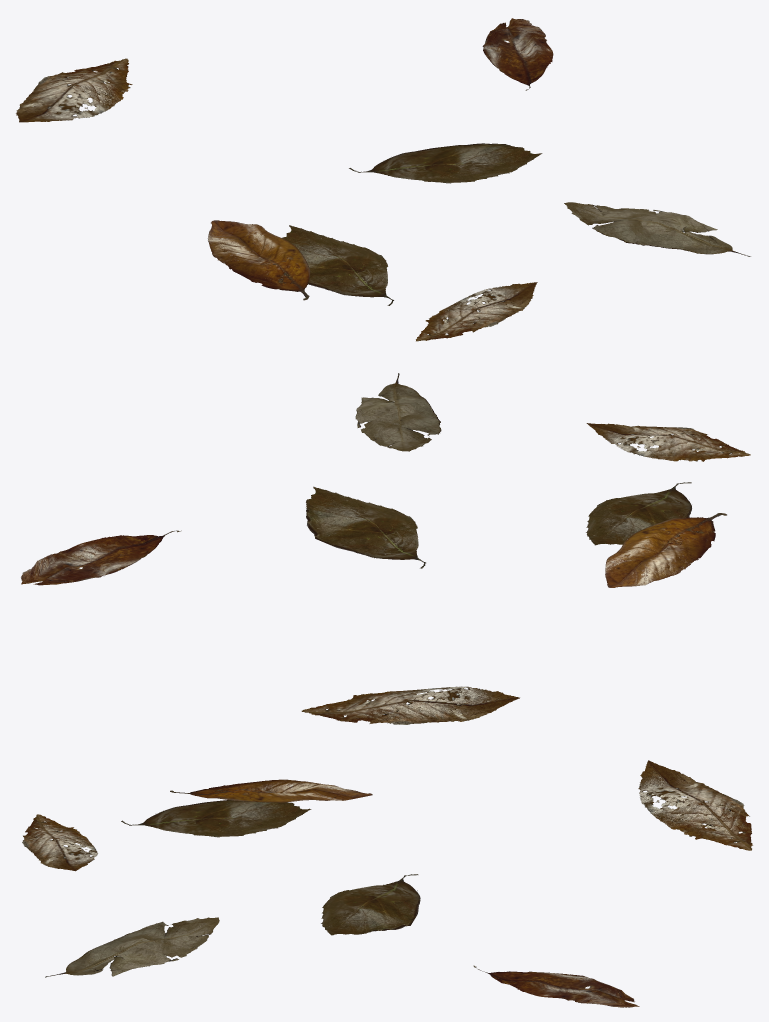
File: Dead_Leaves_LOD0.fbx
The picture shows the model from 3 angles, top to bottom: view 1: azimuth 30°, elevation 25°; view 2: azimuth 150°, elevation 25°; view 3: azimuth 270°, elevation 25°; orthographic projection. The views are drawn at different scales.
Visible parts, largest first — view 1: Dead_Leaves; view 2: Dead_Leaves; view 3: Dead_Leaves.
Boxes of the visible parts, x1,y1,x2,y2 form: Dead_Leaves: [16, 18, 750, 341]; Dead_Leaves: [21, 373, 750, 724]; Dead_Leaves: [22, 760, 752, 1007].
Size of the model in its own units: 0.2841 by 0.00859 by 0.3681.
